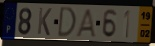1: (123, 10, 131, 39)
6: (101, 9, 118, 39)
8: (18, 7, 33, 36)
A: (74, 8, 98, 39)
D: (56, 6, 77, 39)
K: (36, 7, 53, 37)
